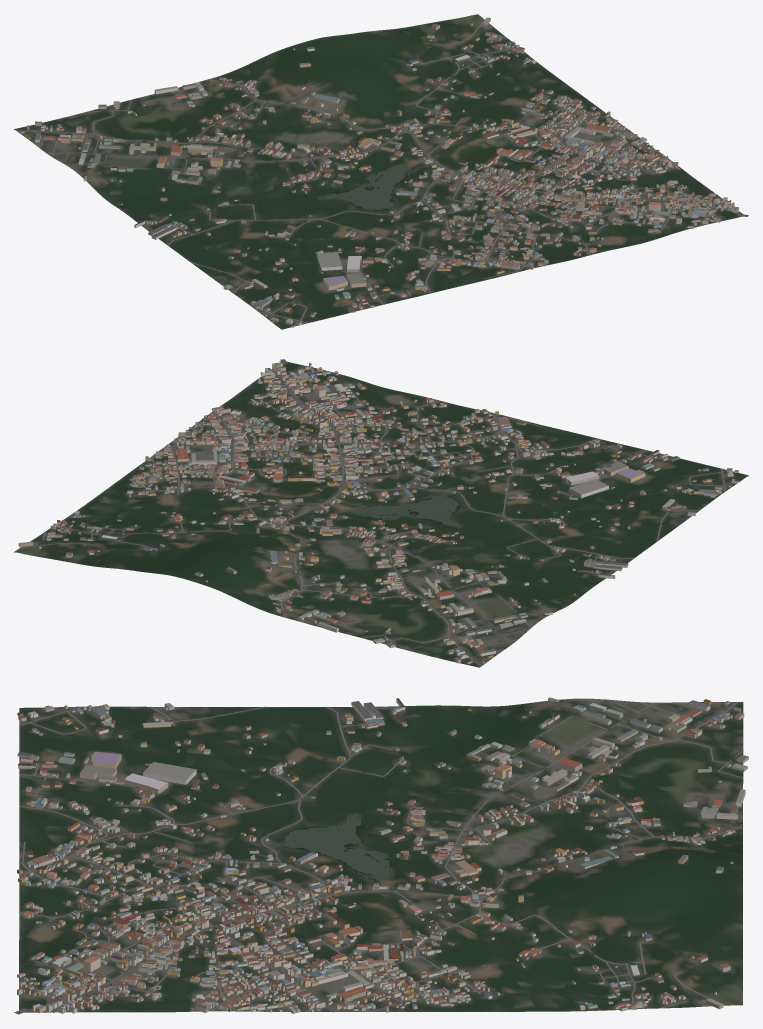
3 views of the same model, one above another, from view 1: azimuth 30°, elevation 25°; view 2: azimuth 150°, elevation 25°; view 3: azimuth 270°, elevation 25° (orthographic). The views are drawn at different scales.
Parts seen in each view (by area): view 1: ground, buildings, roads, water; view 2: ground, buildings, roads, water; view 3: ground, buildings, roads, water.
Part boxes in pixels (x1,y1,x2,y2): ground: [14, 14, 742, 329]; buildings: [20, 17, 738, 327]; roads: [16, 19, 748, 323]; water: [241, 134, 411, 209]; ground: [14, 361, 748, 667]; buildings: [18, 361, 738, 664]; roads: [21, 359, 725, 666]; water: [321, 495, 484, 562]; ground: [19, 698, 743, 1012]; buildings: [17, 697, 748, 1013]; roads: [14, 699, 743, 1014]; water: [279, 780, 541, 879].
Size of the model in its own units: 1436 by 69.89 by 1424.
